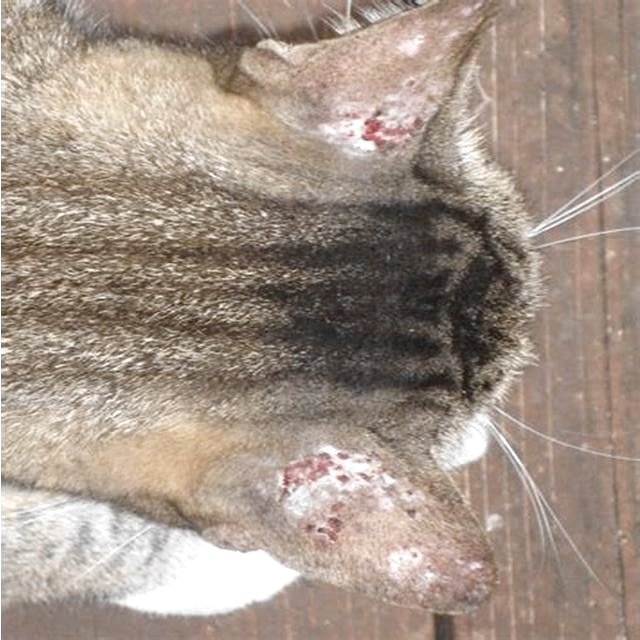ringworm: (274, 433, 441, 553), (334, 39, 456, 161)
